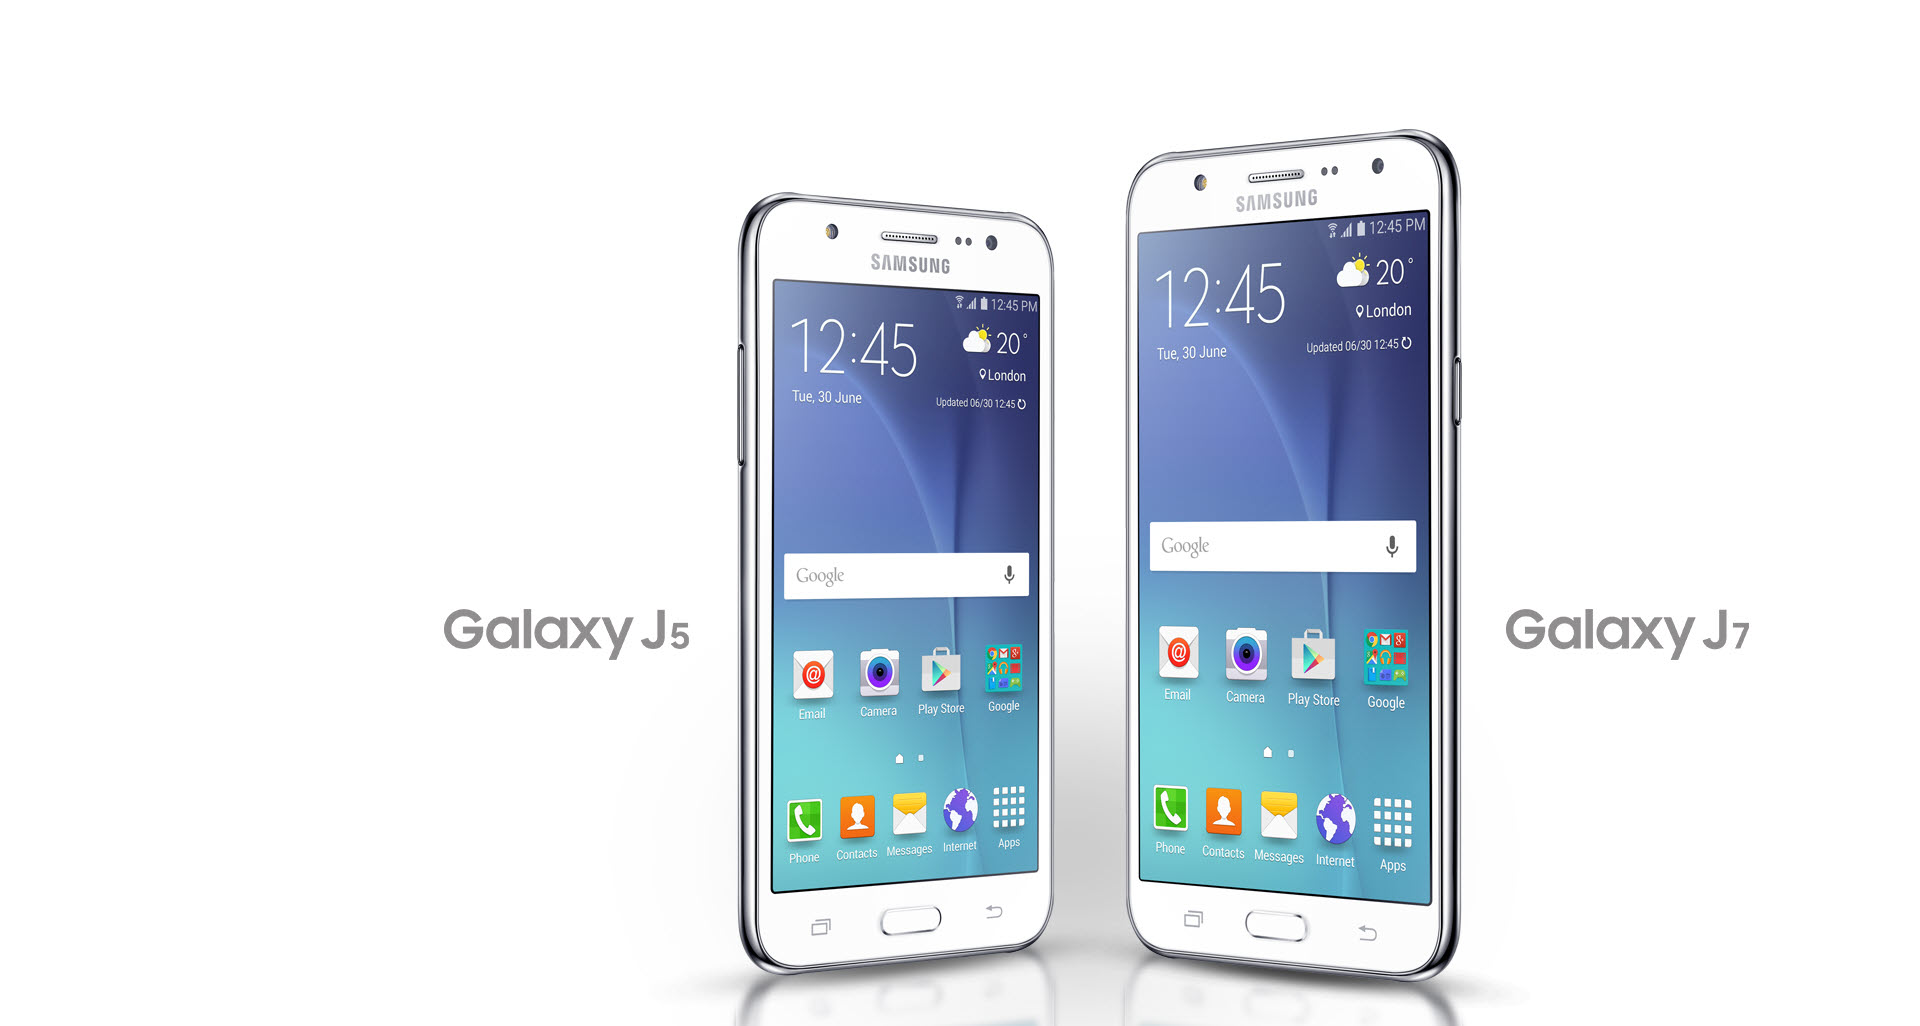smartphone: (1123, 128, 1462, 985), (734, 189, 1057, 978)
